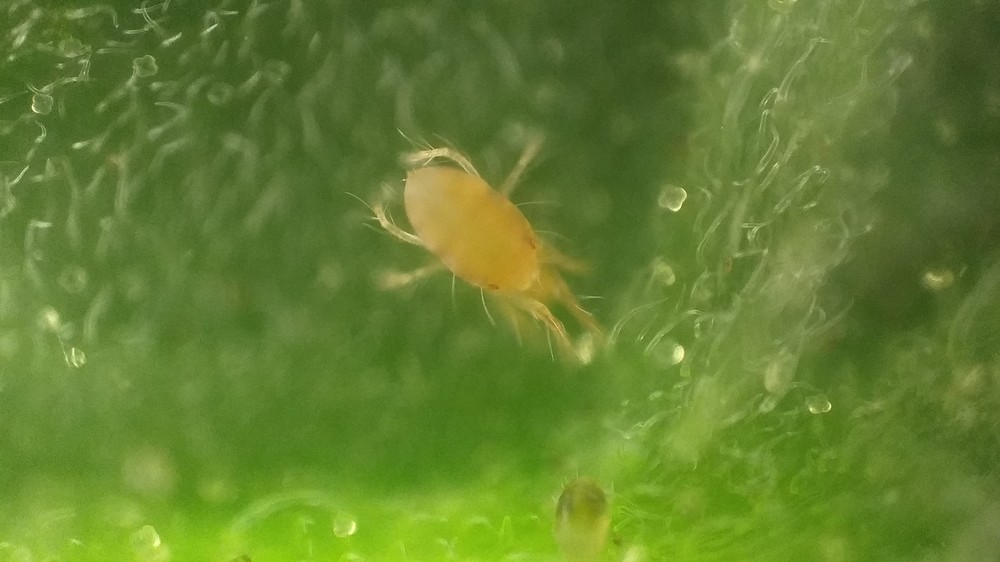Aracnido Rojo: (342, 115, 633, 377)
